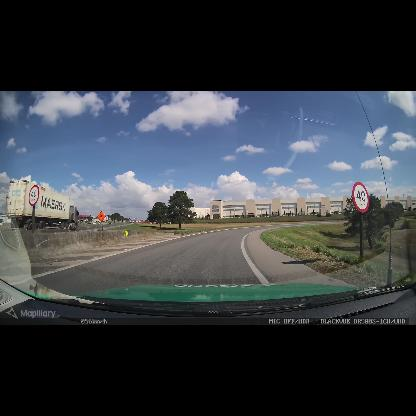A-24: (97, 211, 106, 222)
R-19: (352, 182, 369, 213), (28, 185, 40, 206)
